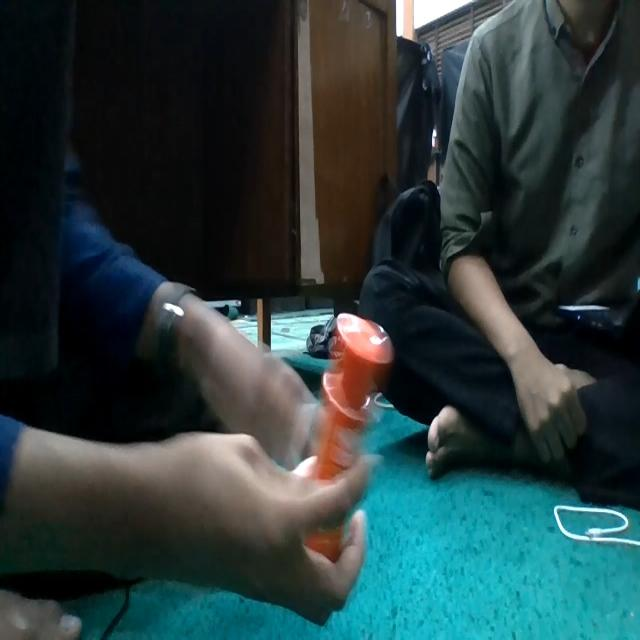Boncabe: (306, 314, 393, 481), (308, 531, 340, 559)
